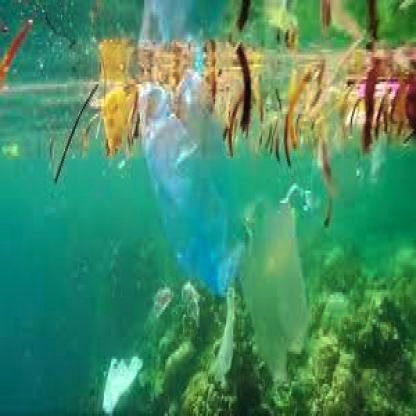pbag: (135, 64, 244, 295), (223, 193, 311, 381)
